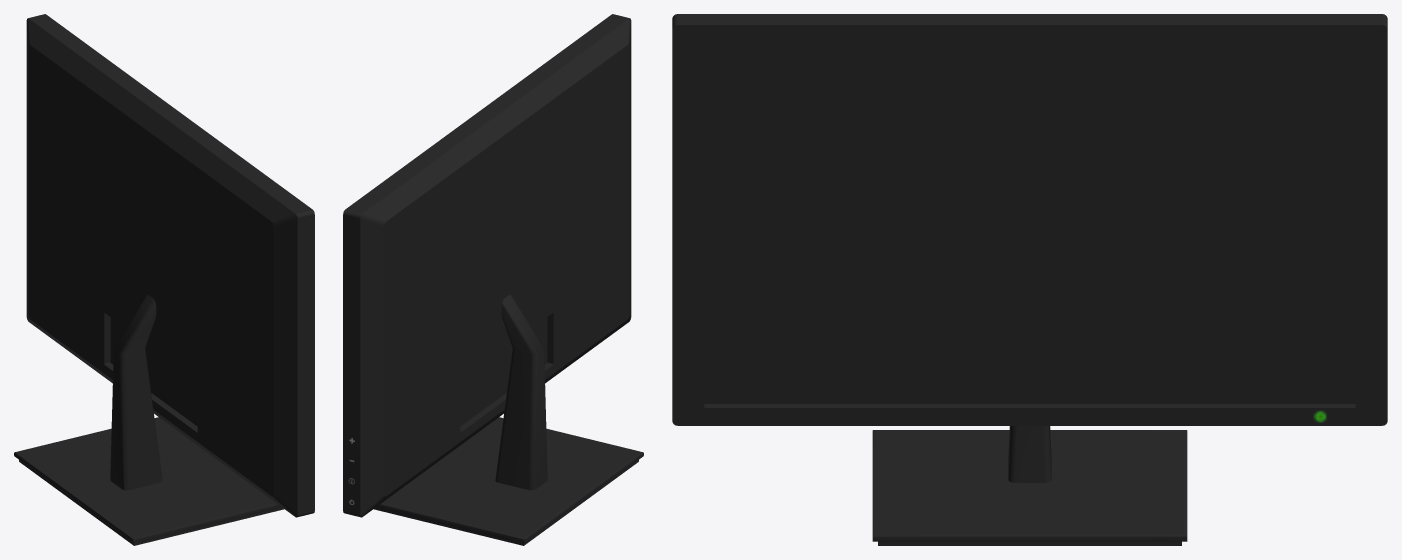
The model's file is pc_monitor.glb.
The picture shows the model from 3 angles, left to right: view 1: azimuth 30°, elevation 25°; view 2: azimuth 150°, elevation 25°; view 3: azimuth 270°, elevation 25°; orthographic projection. The views are drawn at different scales.
Parts seen in each view (by area): view 1: eEcran, ePlateau; view 2: eEcran, ePlateau; view 3: eEcran, ePlateau.
Boxes of the visible parts, x1=… form: eEcran: x1=26, y1=14, x2=314, y2=517; ePlateau: x1=14, y1=294, x2=283, y2=545; eEcran: x1=343, y1=14, x2=631, y2=517; ePlateau: x1=374, y1=294, x2=643, y2=545; eEcran: x1=672, y1=14, x2=1387, y2=425; ePlateau: x1=872, y1=426, x2=1187, y2=545.
Bounding box in the file's own units: 0.0339 × 0.072 × 0.0963.
Materials: 1 (1 with a texture image).
